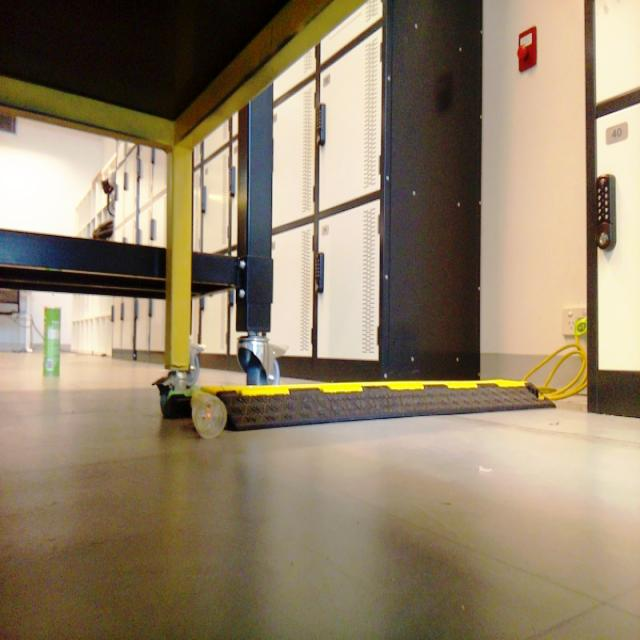greenpringles: (36, 293, 80, 399)
